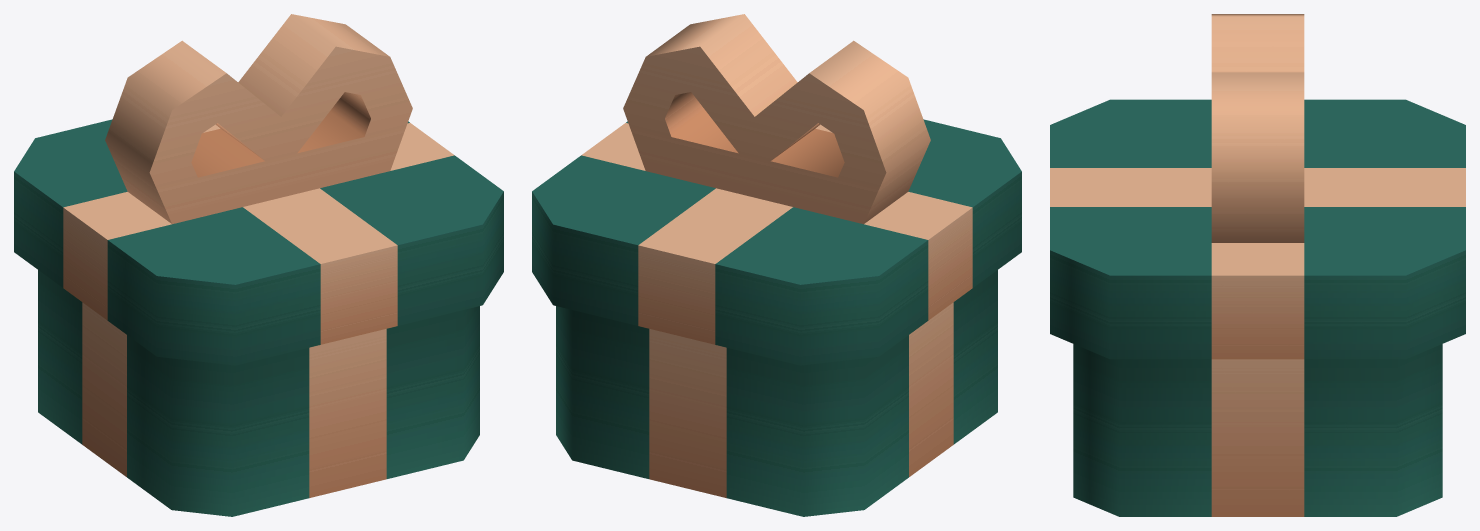
Rendered from present-b-cube.glb.
3 views of the same model, side by side, from view 1: azimuth 30°, elevation 25°; view 2: azimuth 150°, elevation 25°; view 3: azimuth 270°, elevation 25° (orthographic). The views are drawn at different scales.
Visible parts, largest first — view 1: lid, present-b-cube; view 2: lid, present-b-cube; view 3: lid, present-b-cube.
Boxes of the visible parts, x1,y1,x2,y2 form: lid: (14,14,503,365); present-b-cube: (38,270,479,516); lid: (532,14,1021,365); present-b-cube: (556,270,997,516); lid: (1050,14,1465,359); present-b-cube: (1073,344,1442,516).
Size of the model in its own units: 0.45 by 0.4707 by 0.45.
1 material, 1 textured.
